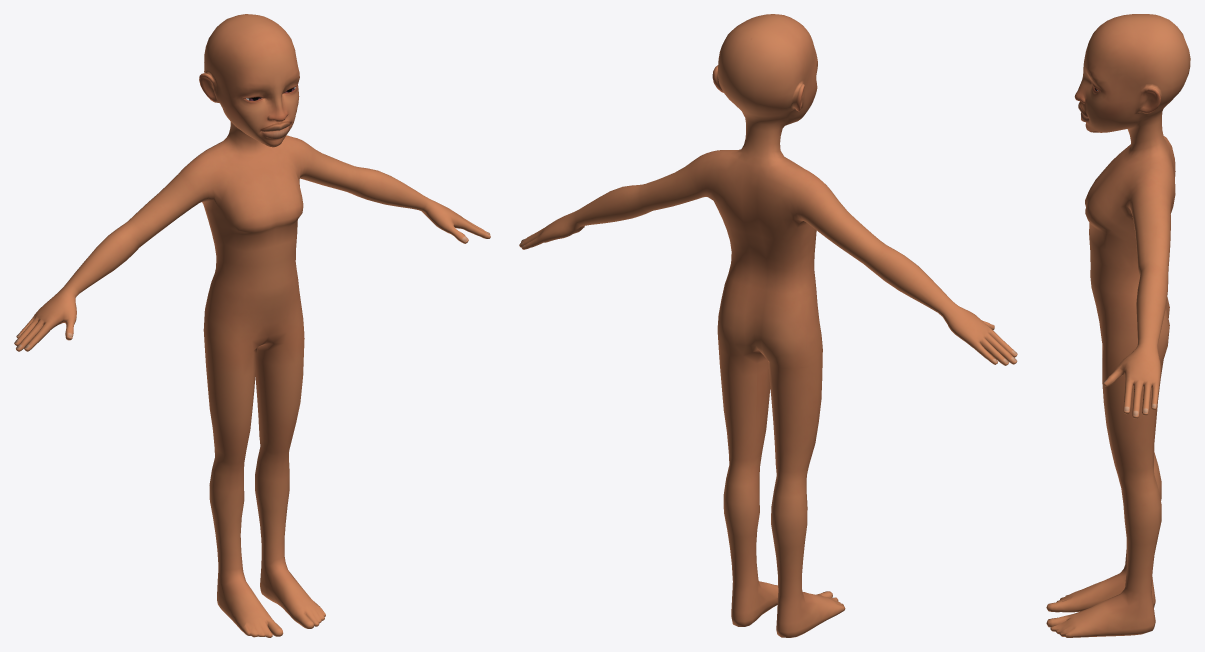
Rendered from frame_0001.glb.
The picture shows the model from 3 angles, left to right: view 1: azimuth 30°, elevation 25°; view 2: azimuth 150°, elevation 25°; view 3: azimuth 270°, elevation 25°; orthographic projection. The views are drawn at different scales.
Visible parts, largest first — view 1: frame_0001_head_geo; view 2: frame_0001_head_geo; view 3: frame_0001_head_geo.
Boxes of the visible parts, bbox=[...] form: frame_0001_head_geo: bbox=[14, 14, 490, 637]; frame_0001_head_geo: bbox=[519, 14, 1017, 637]; frame_0001_head_geo: bbox=[1046, 14, 1190, 637].
Bounding box in the file's own units: 1.28 × 1.5 × 0.3253.
3 materials, 3 textured.
